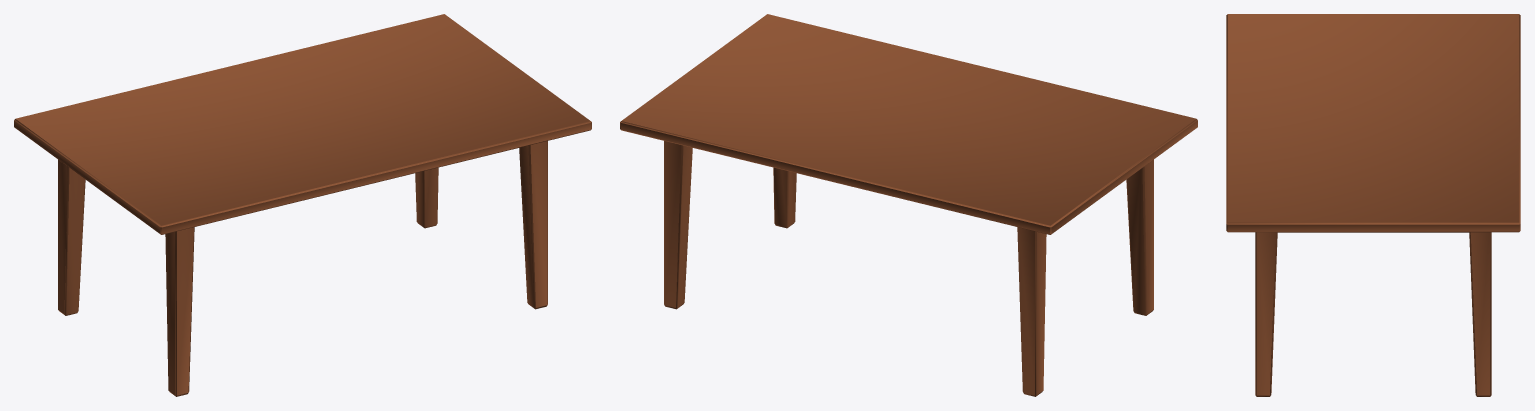
The model's file is mesa_jantar_madeira_escura_xadrez_pacote.glb.
3 views of the same model, side by side, from view 1: azimuth 30°, elevation 25°; view 2: azimuth 150°, elevation 25°; view 3: azimuth 270°, elevation 25° (orthographic).
Visible parts, largest first — view 1: mesa_jantar_madeira_escura_xadrez_pacote; view 2: mesa_jantar_madeira_escura_xadrez_pacote; view 3: mesa_jantar_madeira_escura_xadrez_pacote.
Part boxes in pixels (x1,y1,x2,y2): mesa_jantar_madeira_escura_xadrez_pacote: [14, 14, 591, 396]; mesa_jantar_madeira_escura_xadrez_pacote: [620, 14, 1197, 396]; mesa_jantar_madeira_escura_xadrez_pacote: [1226, 14, 1520, 396].
Bounding box in the file's own units: 1.74 × 0.7295 × 1.03.
1 material, 1 textured.
